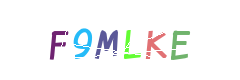9: (47, 0, 127, 80)
E: (120, 0, 200, 80)
F: (43, 0, 123, 80)
K: (111, 0, 191, 80)
L: (80, 0, 160, 80)
M: (80, 0, 160, 80)
